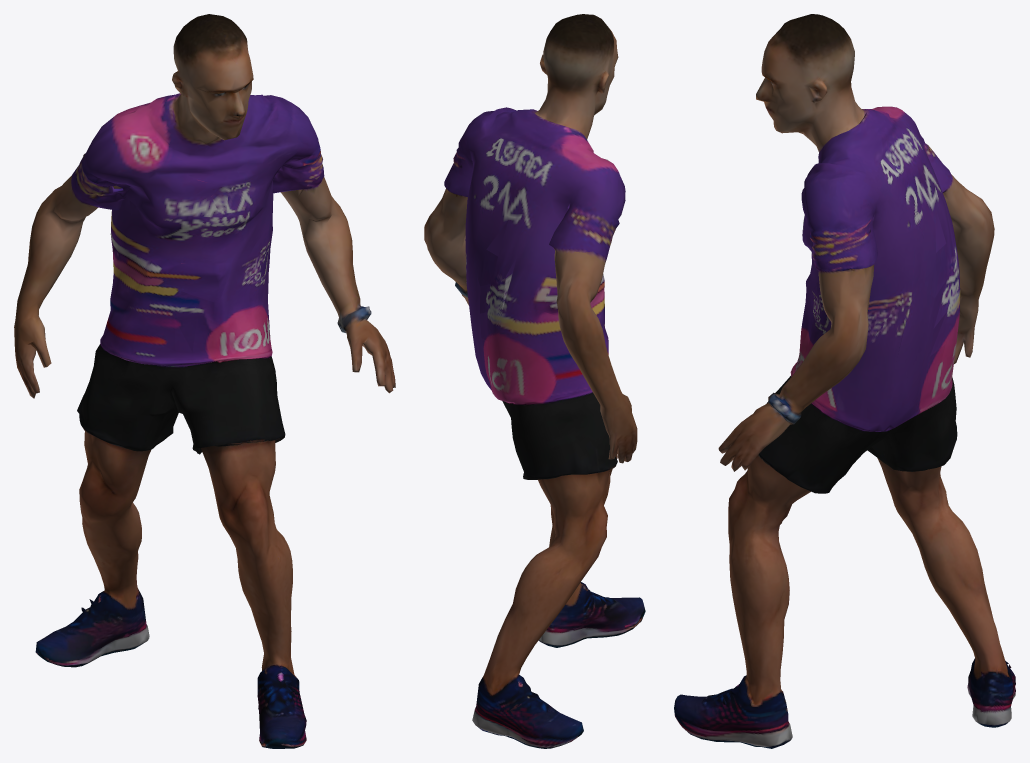
Rendered from 10_1_idle.glb.
3 views of the same model, side by side, from view 1: azimuth 30°, elevation 25°; view 2: azimuth 150°, elevation 25°; view 3: azimuth 270°, elevation 25° (orthographic). The views are drawn at different scales.
Parts seen in each view (by area): view 1: Idle; view 2: Idle; view 3: Idle.
Boxes of the visible parts, box(x1,y1,x2,y2) form: Idle: box(14, 14, 395, 748); Idle: box(424, 14, 645, 748); Idle: box(674, 14, 1015, 748).
Bounding box in the file's own units: 39.45 × 95.15 × 41.77.
1 material, 1 textured.
